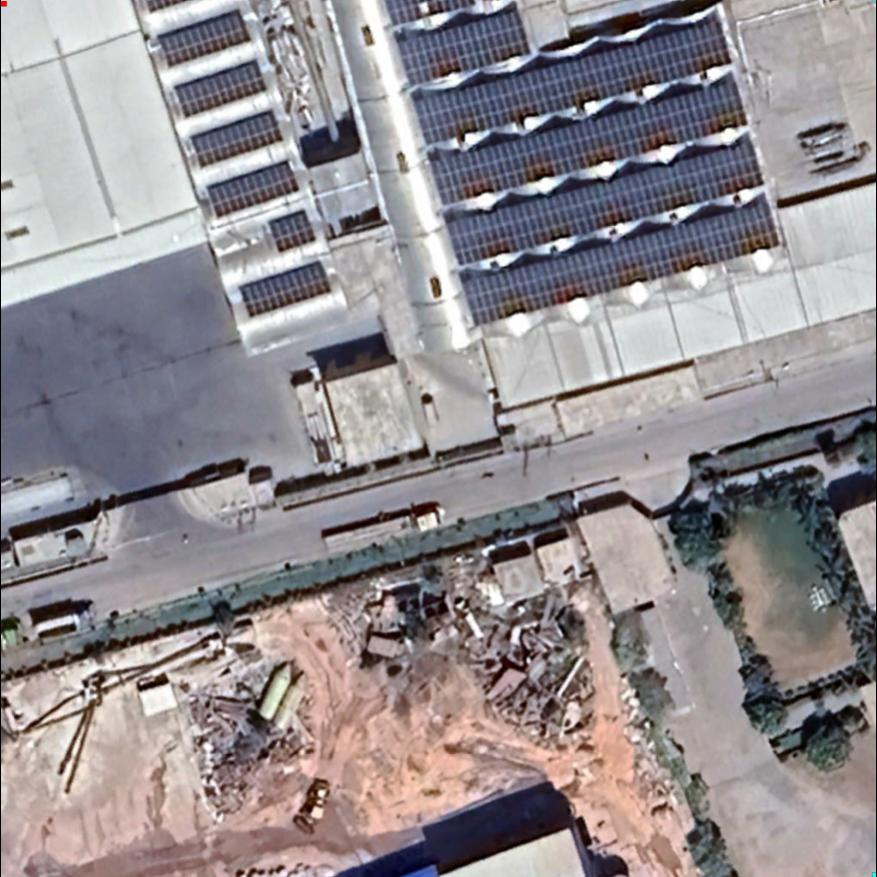Solarpanel: (426, 69, 752, 210), (455, 195, 781, 331), (440, 134, 770, 265), (394, 2, 531, 90), (203, 158, 304, 219), (187, 109, 286, 168), (236, 260, 335, 317), (154, 9, 250, 67), (174, 62, 270, 116), (378, 1, 475, 29), (264, 208, 318, 255), (143, 0, 184, 14)
